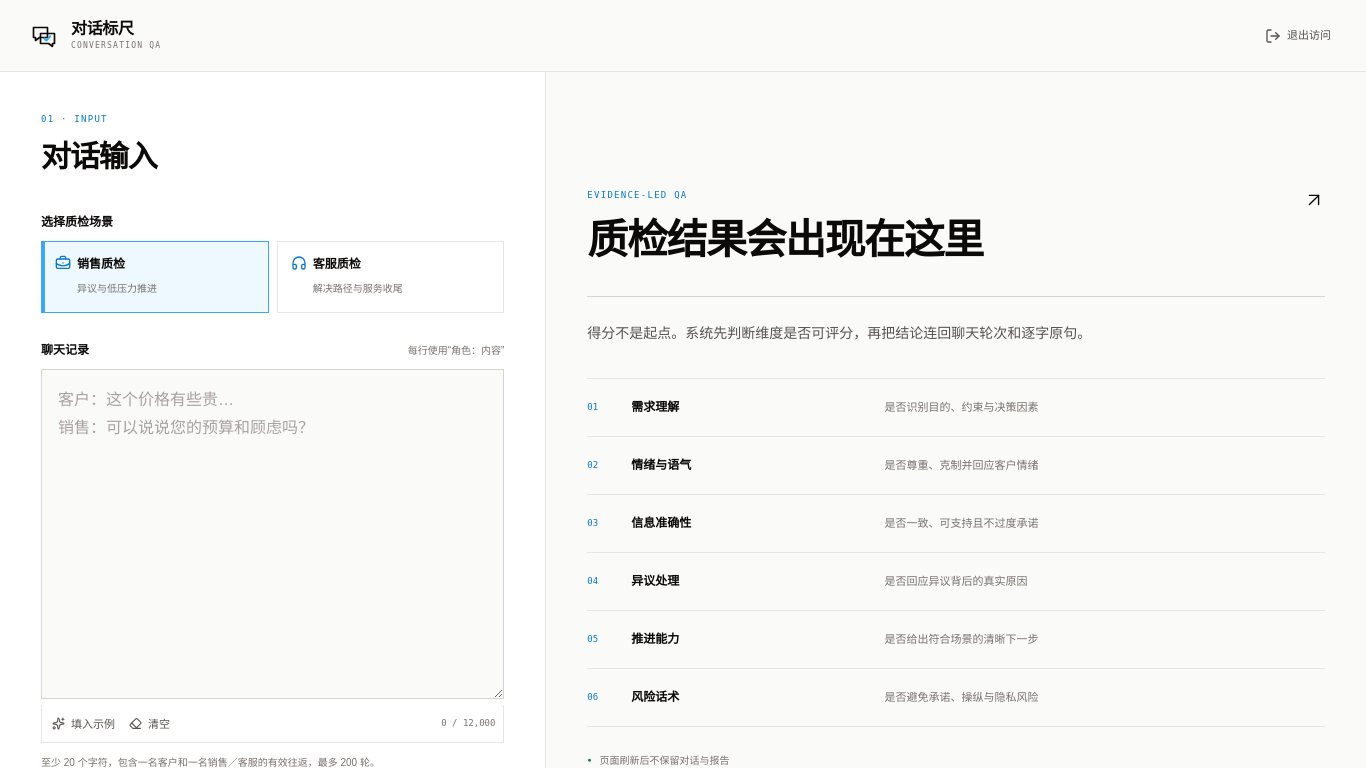
can fill and clear a correctly formatted example
Click the button "填入示例" at (84, 724), box [45,709,122,739]
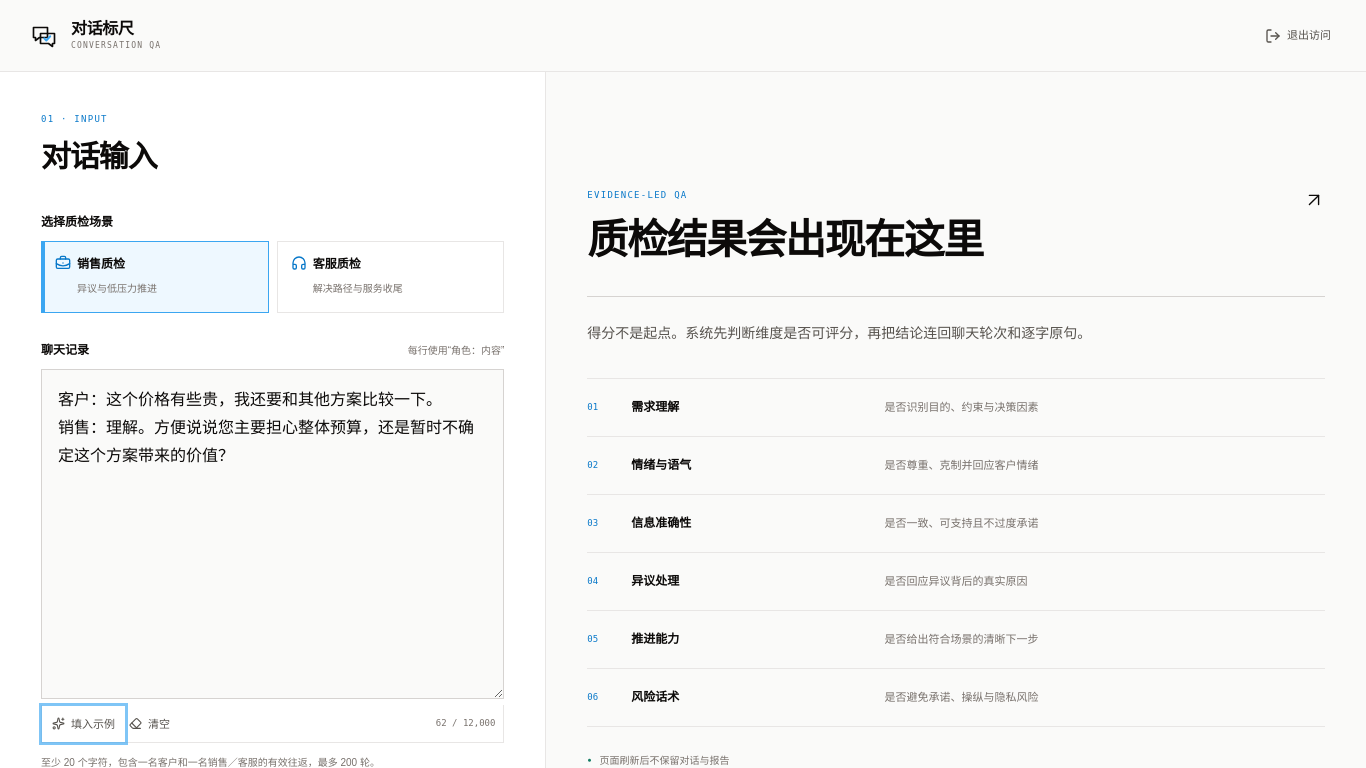
Click the button "清空" at (150, 724), box [122,709,177,739]
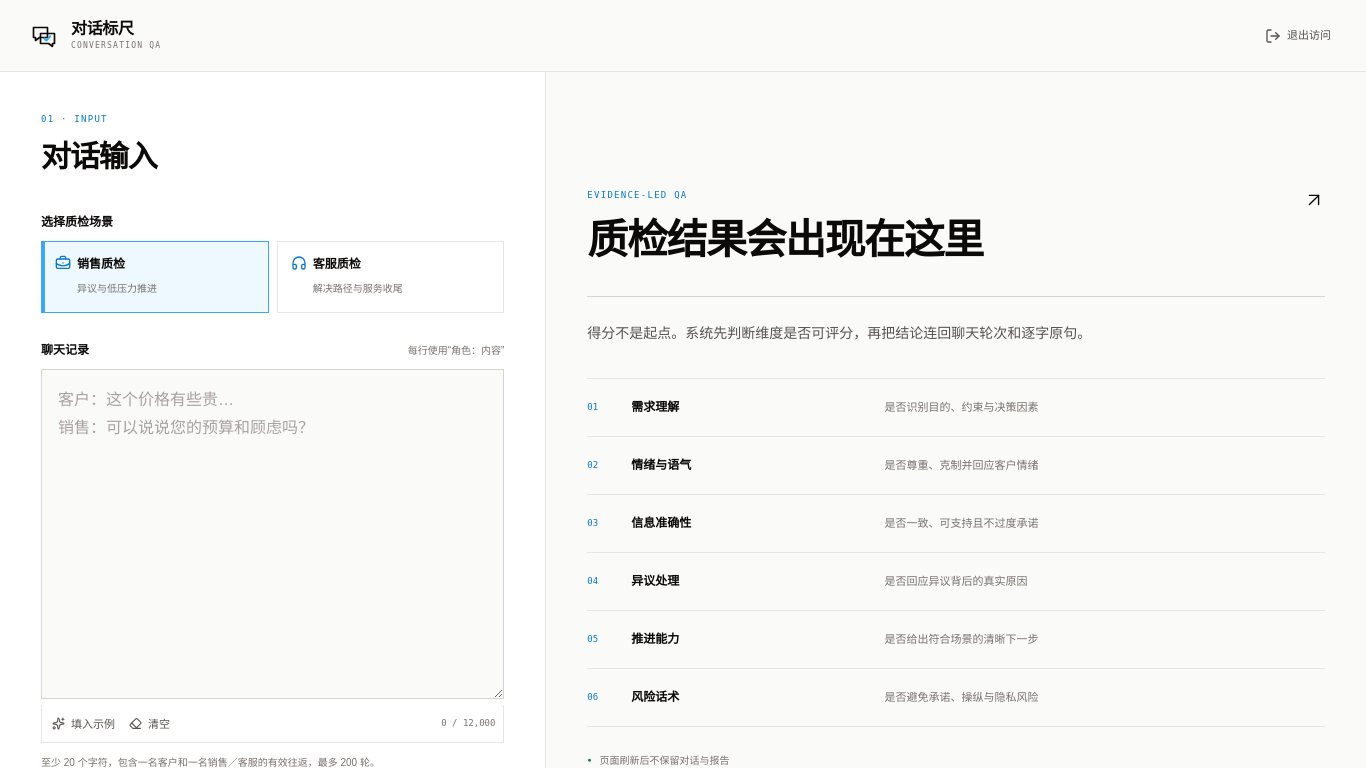
Expected: the text box labelled "聊天记录" is empty, [41,370,504,700]
